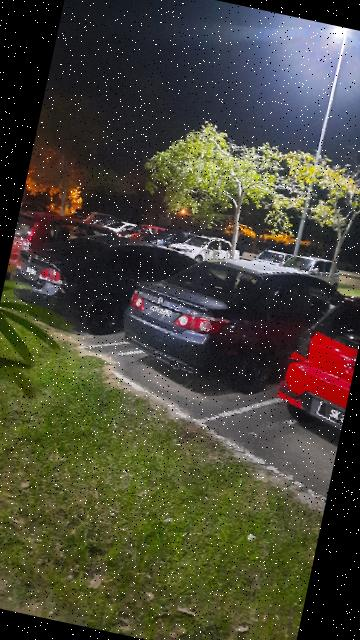License_Plate: (139, 296, 187, 330), (313, 399, 347, 429)
car: (115, 236, 359, 409), (1, 213, 216, 350), (268, 274, 360, 457)
